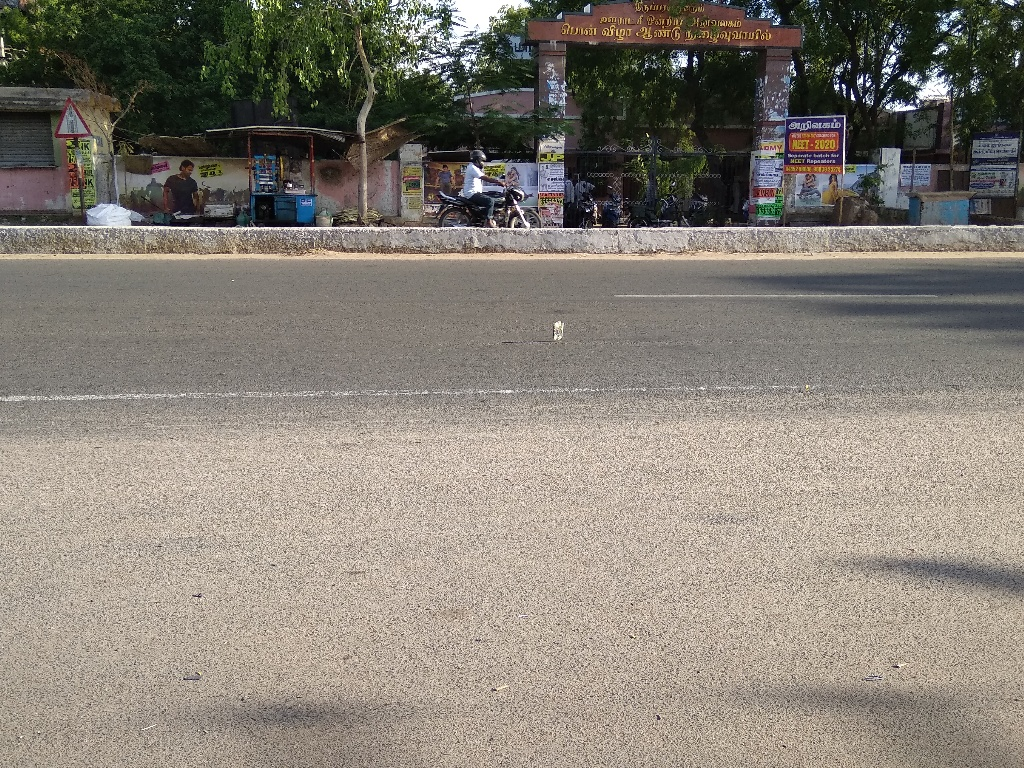biker: (429, 123, 548, 234)
helmet: (464, 137, 497, 174)
